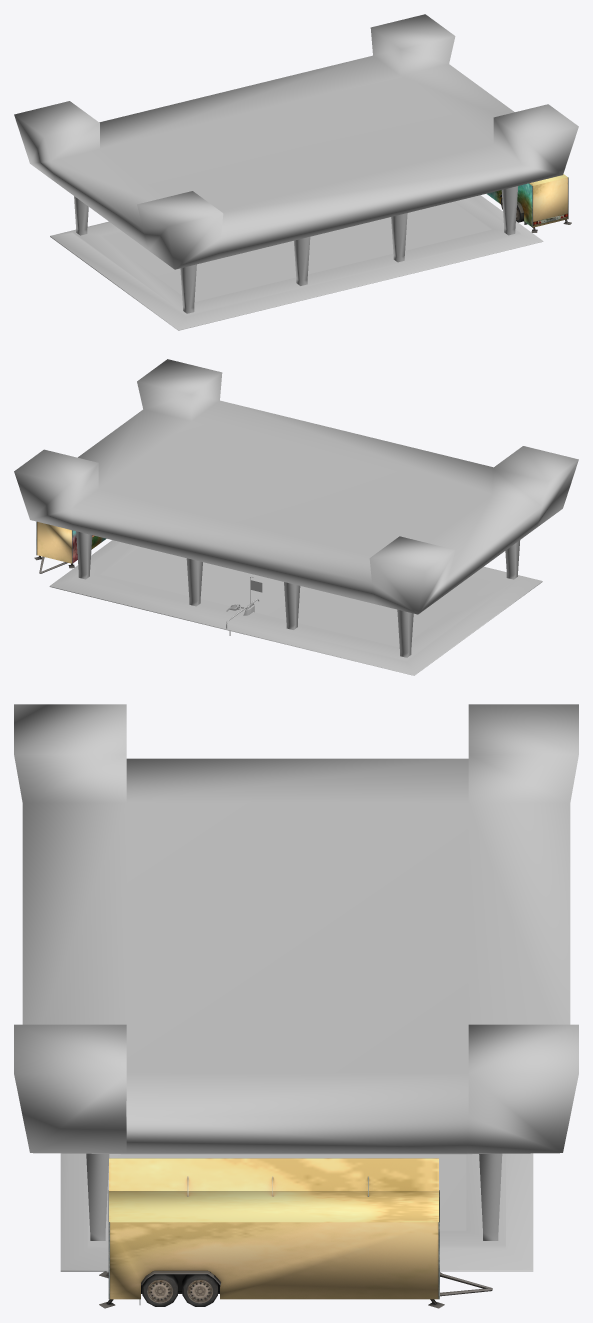
File: autoscooter.fbx
3 views of the same model, one above another, from view 1: azimuth 30°, elevation 25°; view 2: azimuth 150°, elevation 25°; view 3: azimuth 270°, elevation 25° (orthographic). The views are drawn at different scales.
Parts seen in each view (by area): view 1: plattform, kasse; view 2: plattform, kasse; view 3: plattform, kasse.
Part boxes in pixels (x1,y1,x2,y2): plattform: [14, 14, 578, 330]; kasse: [486, 174, 571, 232]; plattform: [14, 359, 578, 675]; kasse: [34, 521, 106, 573]; plattform: [14, 704, 578, 1271]; kasse: [99, 1158, 492, 1308].
Size of the model in its own units: 2396 by 680 by 1484.
